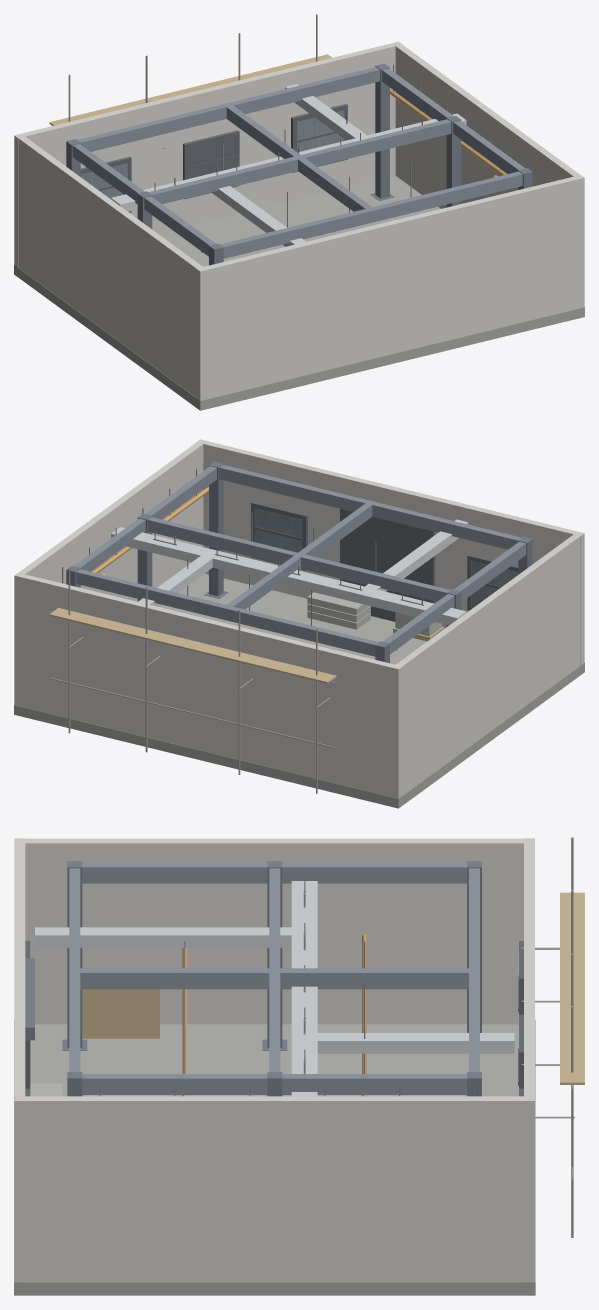
Rendered from reference.glb.
The picture shows the model from 3 angles, top to bottom: view 1: azimuth 30°, elevation 25°; view 2: azimuth 150°, elevation 25°; view 3: azimuth 270°, elevation 25°; orthographic projection. The views are drawn at different scales.
Visible parts, largest first — view 1: wall_south, wall_west, wall_north, floor_slab, wall_east, beam_left_1, beam_central_1, beam_right_1, sec_beam_2, sec_beam_1, sec_beam_3, wfr_N_1 (+11 smaller); view 2: wall_north, wall_west, wall_south, floor_slab, wall_east, duct_hvac_main, beam_right_1, beam_left_1, beam_central_1, bay_frame, scaf_boards, sec_beam_1 (+18 smaller); view 3: wall_east, wall_west, floor_slab, sec_beam_2, sec_beam_1, sec_beam_3, wall_south, duct_branch_south, wall_north, duct_hvac_main, scaf_boards, duct_branch_north (+9 smaller).
Part boxes in pixels (box(x1,y1,x2,y2)): wall_south: box(196, 175, 584, 400); wall_west: box(18, 136, 202, 397); wall_north: box(14, 41, 402, 267); floor_slab: box(14, 175, 584, 410); wall_east: box(395, 44, 579, 208); beam_left_1: box(220, 171, 522, 258); beam_central_1: box(148, 119, 451, 204); beam_right_1: box(77, 67, 379, 151); sec_beam_2: box(225, 104, 373, 211); sec_beam_1: box(72, 144, 215, 256); sec_beam_3: box(382, 68, 525, 173); wfr_N_1: box(183, 130, 239, 199); wall_north: box(14, 573, 402, 798); wall_west: box(396, 534, 580, 795); wall_south: box(196, 439, 584, 665); floor_slab: box(14, 573, 584, 808); wall_east: box(18, 442, 203, 601); duct_hvac_main: box(111, 527, 466, 625); beam_right_1: box(76, 569, 378, 656); beam_left_1: box(219, 465, 521, 549); beam_central_1: box(147, 517, 450, 601); bay_frame: box(340, 509, 435, 621); scaf_boards: box(49, 608, 336, 683); sec_beam_1: box(383, 541, 526, 654); wall_east: box(25, 1096, 523, 1281); wall_west: box(25, 838, 524, 1024); floor_slab: box(14, 1019, 535, 1295); sec_beam_2: box(75, 968, 474, 989); sec_beam_1: box(82, 862, 466, 883); sec_beam_3: box(82, 1074, 466, 1094); wall_south: box(14, 838, 25, 1282); duct_branch_south: box(35, 927, 315, 947); wall_north: box(524, 838, 534, 1282); duct_hvac_main: box(291, 881, 317, 1096); scaf_boards: box(560, 892, 584, 1084); duct_branch_north: box(317, 1033, 514, 1053).
Size of the model in its own units: 12.44 by 5.35 by 11.43.
